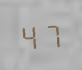four: (19, 21, 40, 50)
seven: (41, 20, 62, 48)
